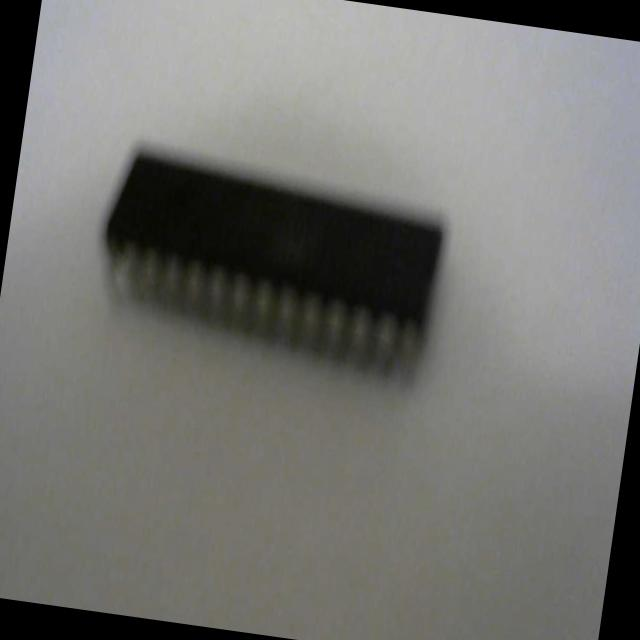atmega: (86, 133, 457, 392)
